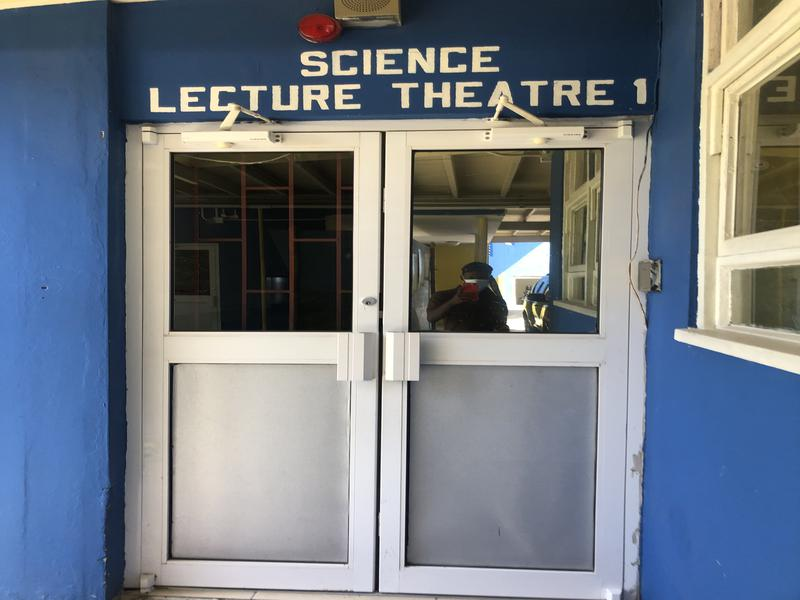18.0051836_-76.7497262_pclt1: (97, 33, 675, 600)
